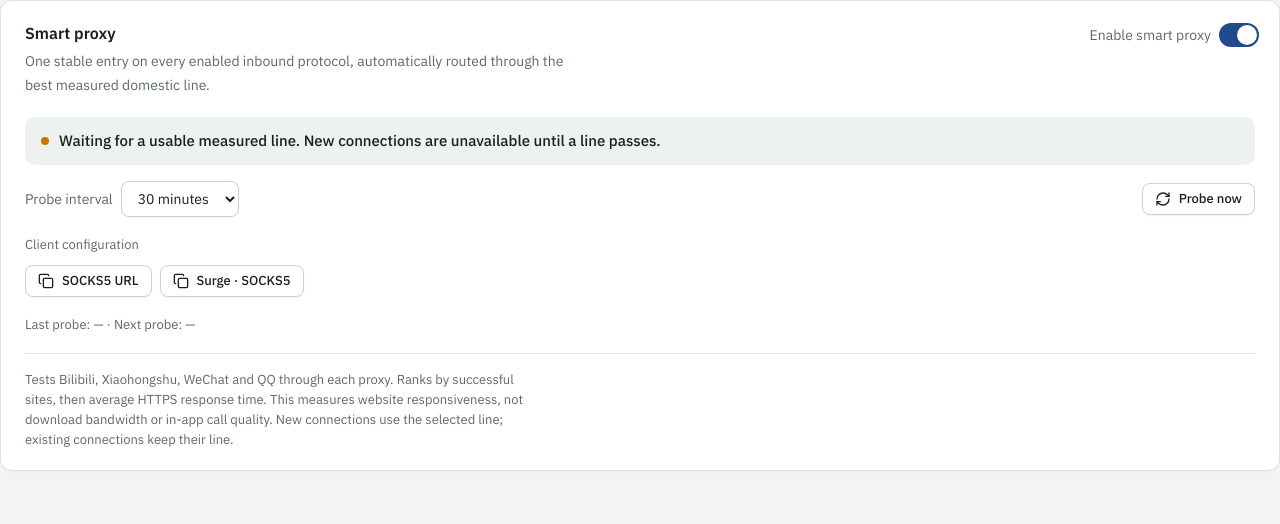
Test: smart proxy asynchronous state › preserves an action failure through successful polling, then allows retry
Click the switch at (1174, 35), box x1=1090 y1=23 x2=1259 y2=47
Wait 5000 ms
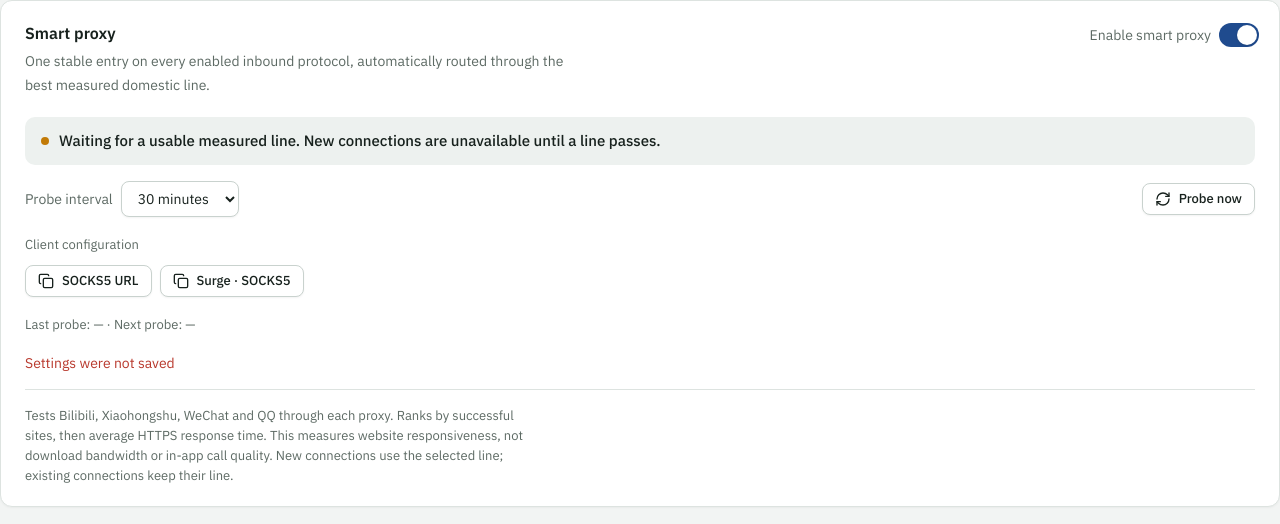
Expected: the message reads "Settings were not saved", x1=25 y1=354 x2=175 y2=372
Click the switch at (1174, 35), box x1=1090 y1=23 x2=1259 y2=47
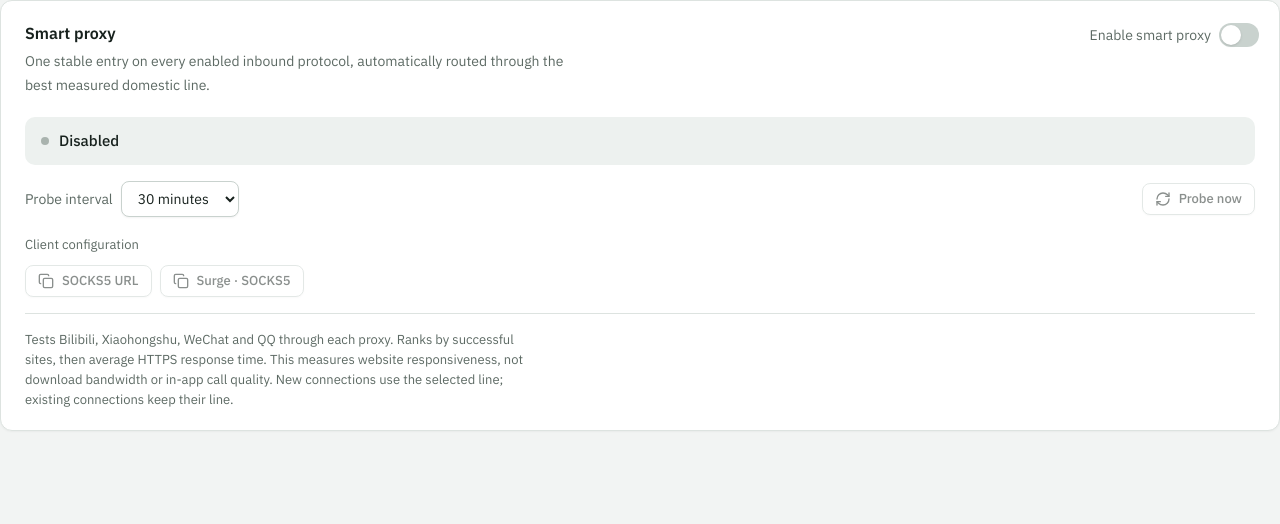
Expected: the switch is not checked, x1=1090 y1=23 x2=1259 y2=47
Expected: the message "Settings were not saved" is gone
